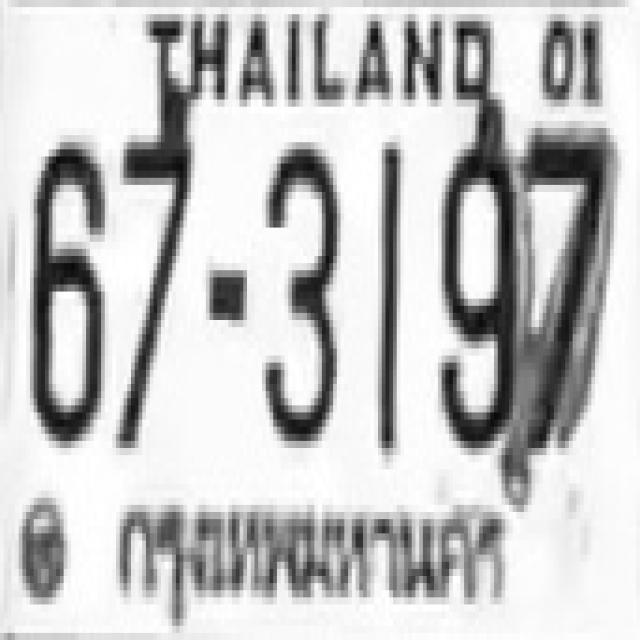1: (372, 138, 398, 452)
3: (258, 135, 337, 441)
6: (26, 135, 101, 441)
7: (520, 121, 610, 448), (114, 96, 193, 444)
9: (436, 124, 515, 444)
BKK: (109, 481, 517, 628)
